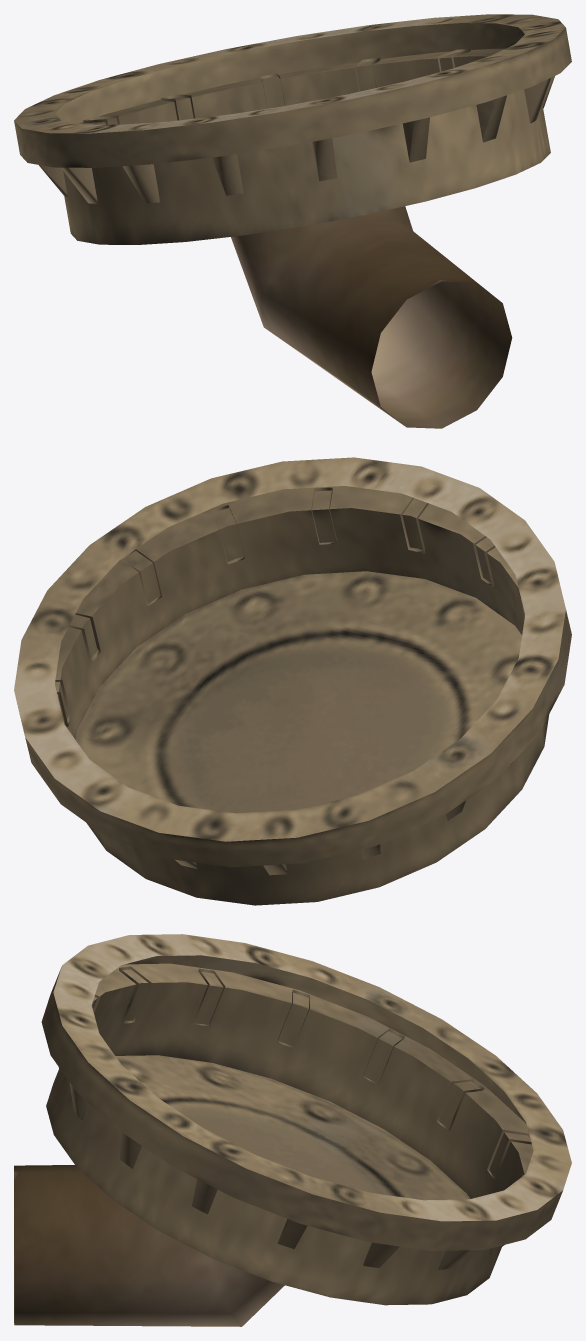
The model's file is Body_SteerRightFront.dae.
3 renders of one model, top to bottom at view 1: azimuth 30°, elevation 25°; view 2: azimuth 150°, elevation 25°; view 3: azimuth 270°, elevation 25°, orthographic.
Visible parts, largest first — view 1: suspension_left_front_axl; view 2: suspension_left_front_axl; view 3: suspension_left_front_axl.
Boxes of the visible parts, x1,y1,x2,y2 form: suspension_left_front_axl: (14,14,571,428); suspension_left_front_axl: (14,457,571,905); suspension_left_front_axl: (14,934,571,1326).
Size of the model in its own units: 0.1257 by 0.1272 by 0.0818.
1 material, 1 textured.
